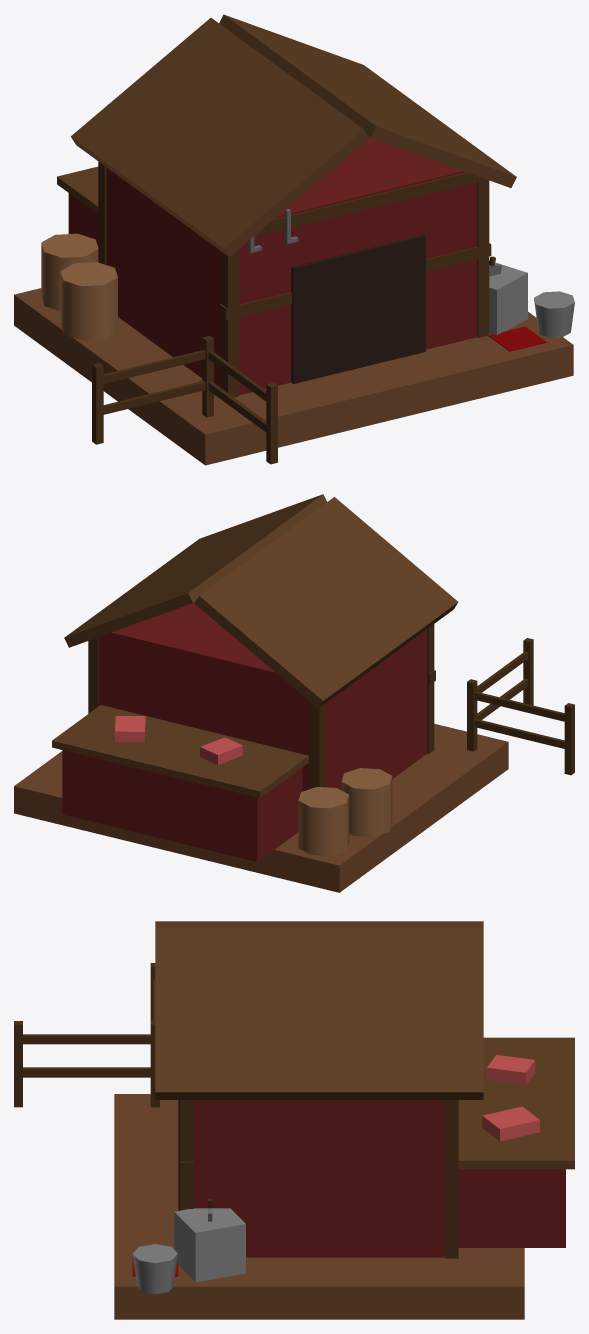
The model's file is slaughterhouse.glb.
3 renders of one model, top to bottom at view 1: azimuth 30°, elevation 25°; view 2: azimuth 150°, elevation 25°; view 3: azimuth 270°, elevation 25°, orthographic. The views are drawn at different scales.
Parts seen in each view (by area): view 1: MainBuilding, RoofLeft, Foundation, EntranceDoor, RoofRight, Barrel2, HorizontalBeamFront, Barrel1, ChoppingBlock, CornerBeam_1, CornerBeam_0, Bucket (+12 smaller); view 2: MainBuilding, RoofLeft, Foundation, RearExtension, ExtensionRoof, RoofRight, Barrel1, Barrel2, CornerBeam_3, CornerBeam_1, PenRail1, PenRail2 (+7 smaller); view 3: RoofRight, MainBuilding, Foundation, ExtensionRoof, RearExtension, ChoppingBlock, RoofLeft, CornerBeam_2, Bucket, MeatPiece1, PenRail3, PenRail4 (+4 smaller).
Part boxes in pixels (x1,y1,x2,y2): MainBuilding: (106,136,477,395); RoofLeft: (71,18,369,256); Foundation: (14,288,573,465); EntranceDoor: (291,234,425,383); RoofRight: (219,14,516,187); Barrel2: (60,262,117,340); HorizontalBeamFront: (254,172,478,236); Barrel1: (41,233,98,310); ChoppingBlock: (489,262,527,334); CornerBeam_1: (221,249,238,397); CornerBeam_0: (477,176,489,337); Bucket: (534,291,574,337); MainBuilding: (99,601,426,791); RoofLeft: (194,497,458,708); Foundation: (14,723,508,892); RearExtension: (62,750,302,861); ExtensionRoof: (52,705,308,797); RoofRight: (64,494,326,647); Barrel1: (298,787,349,855); Barrel2: (341,768,392,837); CornerBeam_3: (309,701,325,788); CornerBeam_1: (427,624,434,754); PenRail1: (474,691,572,723); PenRail2: (474,719,572,750); RoofRight: (155,927,483,1099); MainBuilding: (194,1100,444,1257); Foundation: (114,1094,524,1319); ExtensionRoof: (458,1037,574,1169); RearExtension: (458,1169,565,1247); ChoppingBlock: (174,1208,245,1282); RoofLeft: (155,921,483,927); CornerBeam_2: (445,1100,458,1258); Bucket: (132,1244,177,1294); MeatPiece1: (482,1106,539,1141); PenRail3: (23,1034,150,1044); PenRail4: (23,1067,150,1077).
Size of the model in its own units: 6.5 by 3.61 by 6.15.
